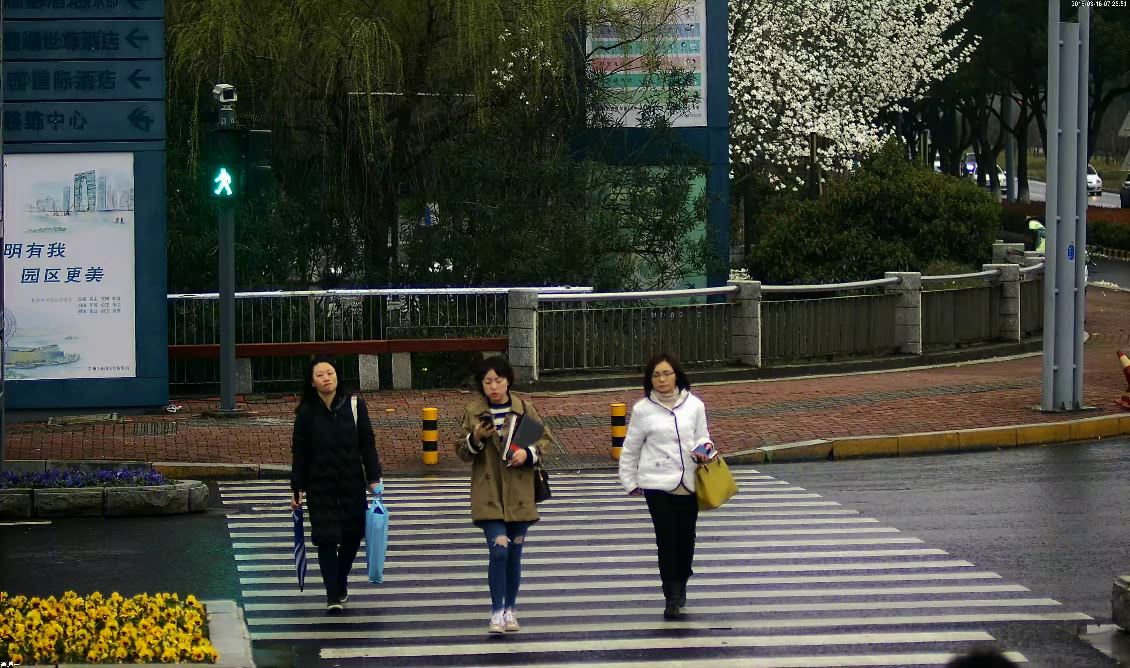person: (616, 356, 725, 625), (453, 354, 557, 635), (287, 356, 394, 616)
